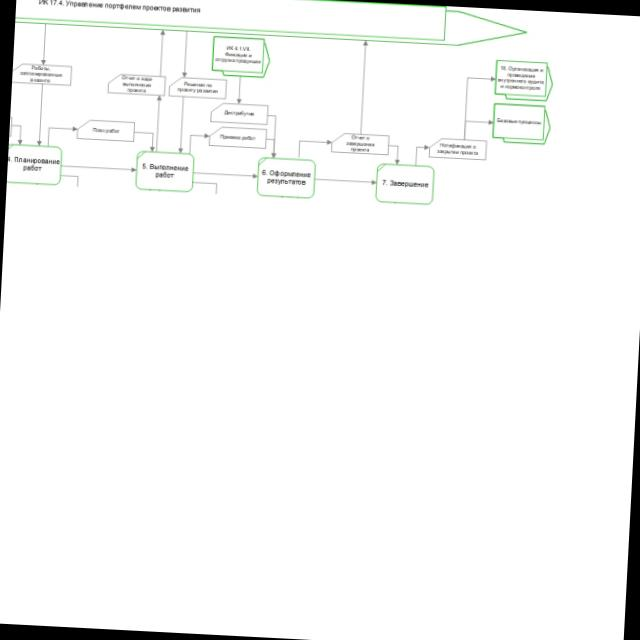arrow: (463, 74, 496, 141), (357, 41, 369, 135), (61, 163, 137, 174), (296, 138, 332, 161), (463, 118, 494, 142), (193, 169, 258, 180), (47, 125, 78, 148), (266, 114, 280, 159), (153, 95, 164, 152), (36, 84, 46, 146), (315, 176, 377, 186), (177, 97, 187, 153), (133, 130, 156, 152), (188, 132, 210, 155), (158, 30, 167, 77), (181, 31, 190, 77), (40, 23, 49, 65), (414, 144, 430, 166), (265, 137, 279, 159), (11, 124, 25, 145), (388, 143, 401, 165), (236, 76, 244, 105)
rectangle: (255, 155, 317, 200), (376, 163, 435, 205), (136, 152, 195, 193), (7, 145, 62, 186), (492, 102, 546, 142), (212, 36, 266, 74), (495, 59, 548, 97), (12, 62, 72, 87), (208, 124, 267, 149), (210, 102, 269, 126), (108, 72, 166, 96), (332, 132, 389, 156), (168, 77, 227, 100), (77, 118, 134, 141), (429, 139, 487, 159)
